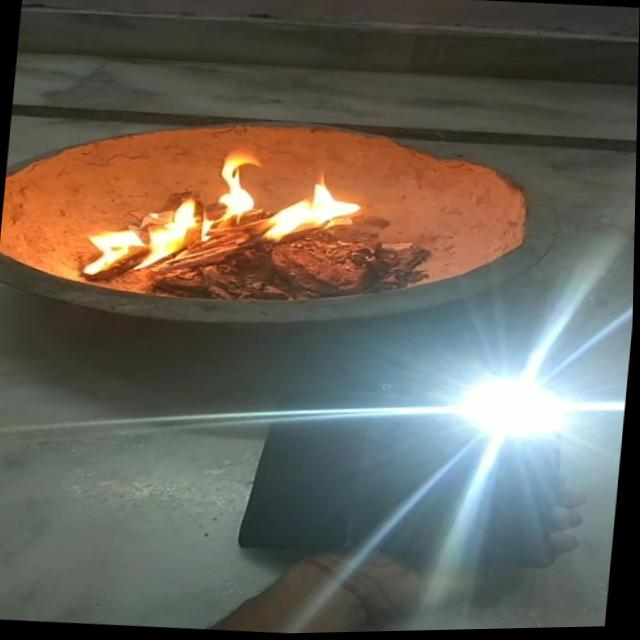fire: (76, 137, 358, 297)
